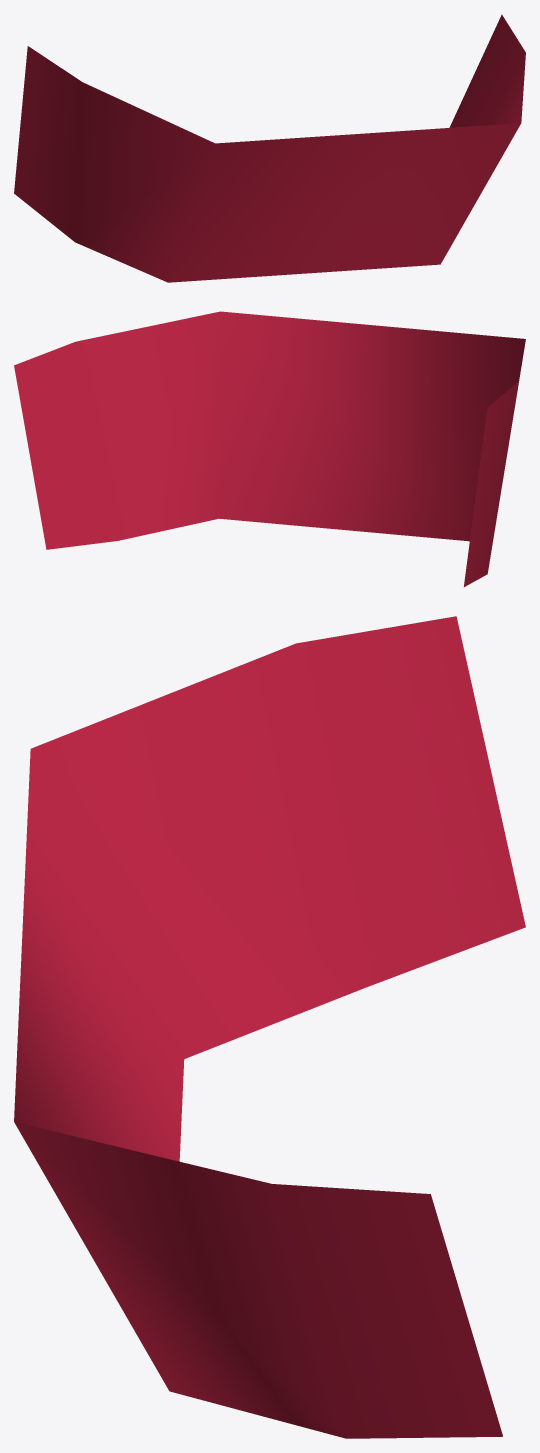
3 renders of one model, top to bottom at view 1: azimuth 30°, elevation 25°; view 2: azimuth 150°, elevation 25°; view 3: azimuth 270°, elevation 25°, orthographic. The views are drawn at different scales.
Visible parts, largest first — view 1: ef_432; view 2: ef_432; view 3: ef_432.
Part boxes in pixels (x1,y1,x2,y2): ef_432: (14,14,525,282); ef_432: (14,311,525,586); ef_432: (14,616,525,1438).
Bounding box in the file's own units: 0.7289 × 0.3659 × 0.3657.
Materials: 1 (1 with a texture image).
